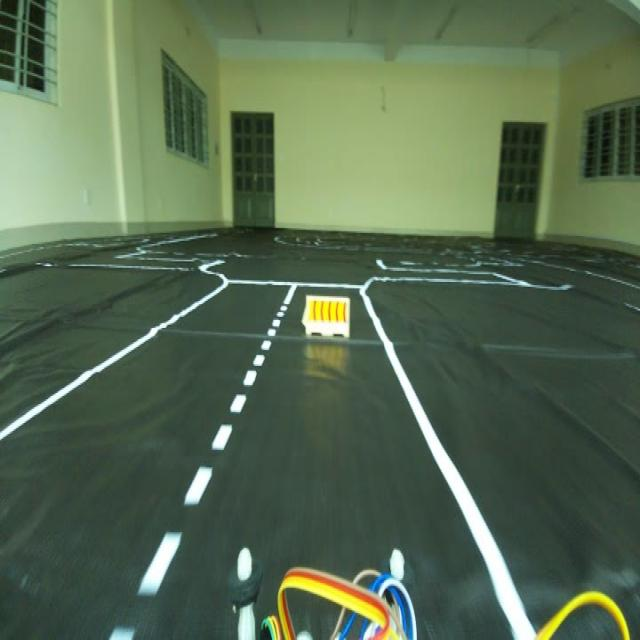roadblock: (297, 284, 356, 348)
